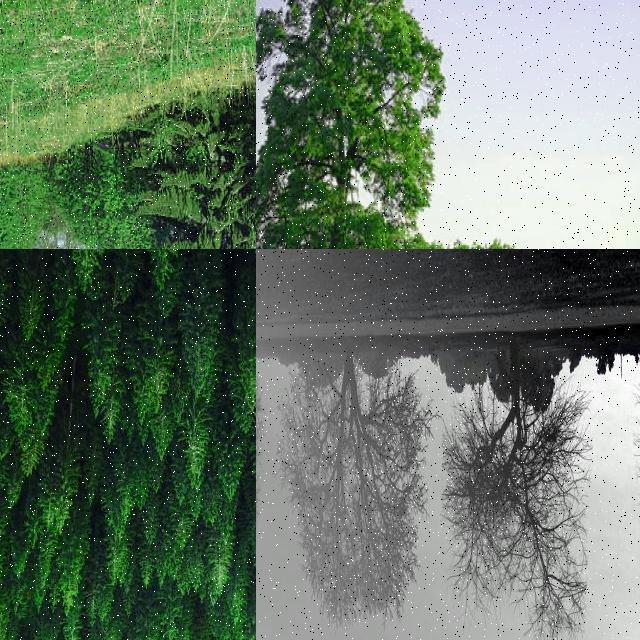tree: (256, 0, 480, 248), (277, 346, 438, 630), (442, 348, 590, 640), (152, 88, 256, 248), (52, 143, 148, 249), (256, 352, 292, 584), (178, 264, 220, 408), (126, 316, 172, 418), (39, 424, 80, 530), (80, 300, 120, 408), (0, 163, 48, 249), (59, 514, 93, 614), (214, 418, 252, 502), (236, 285, 256, 419), (2, 362, 34, 438), (18, 250, 44, 342), (184, 406, 212, 489), (224, 544, 252, 626), (146, 249, 186, 303), (0, 250, 20, 350), (32, 331, 64, 389), (100, 475, 128, 541), (54, 256, 74, 344), (102, 374, 126, 444), (83, 432, 105, 508), (111, 250, 143, 302), (1, 358, 16, 467), (72, 248, 106, 296), (148, 404, 176, 462), (206, 538, 234, 596), (59, 250, 99, 290), (109, 249, 143, 295), (94, 546, 114, 622), (216, 495, 244, 545), (35, 379, 59, 436), (10, 524, 34, 580), (117, 456, 135, 524), (169, 448, 189, 508), (37, 534, 59, 588), (106, 529, 128, 583), (159, 587, 181, 640), (20, 433, 44, 481), (216, 248, 244, 288), (25, 491, 43, 549), (132, 448, 148, 512), (143, 494, 161, 550), (186, 543, 204, 597), (0, 249, 20, 297), (186, 250, 214, 282), (147, 449, 165, 497), (174, 504, 192, 552), (0, 412, 12, 483), (0, 545, 12, 615), (164, 538, 184, 578), (7, 249, 33, 279), (8, 462, 24, 510), (1, 411, 16, 462), (136, 545, 154, 587), (0, 500, 12, 562), (154, 540, 168, 592), (1, 592, 16, 640), (120, 583, 138, 621), (210, 606, 230, 640), (136, 612, 160, 640), (0, 447, 12, 498), (0, 341, 12, 389), (60, 612, 80, 640), (0, 488, 10, 540), (28, 614, 48, 640), (10, 578, 24, 614), (0, 506, 10, 554), (0, 548, 12, 586), (1, 249, 16, 277), (48, 584, 61, 616), (0, 495, 8, 545), (0, 544, 8, 592), (44, 618, 60, 640), (110, 618, 126, 640), (0, 460, 8, 500), (0, 607, 7, 640), (0, 615, 7, 640)
